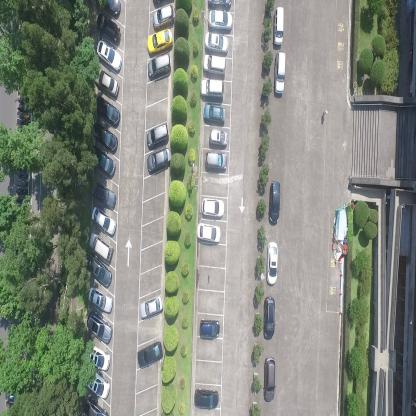car: (93, 94, 121, 128), (86, 252, 112, 288), (86, 310, 112, 345), (91, 121, 118, 154), (90, 204, 117, 236), (96, 39, 122, 72), (136, 337, 162, 369), (87, 232, 113, 264), (94, 66, 119, 99), (90, 179, 116, 208), (84, 369, 110, 398), (92, 145, 116, 176), (146, 145, 171, 174), (147, 52, 172, 81), (146, 120, 170, 150), (96, 15, 120, 45), (87, 286, 113, 313), (139, 292, 163, 321), (84, 344, 110, 370), (194, 385, 220, 410), (263, 355, 276, 403), (147, 28, 173, 52), (208, 8, 233, 32), (203, 148, 227, 173), (199, 77, 224, 100), (274, 50, 286, 97), (197, 223, 222, 245), (152, 4, 174, 29), (269, 178, 280, 226), (266, 241, 278, 285), (263, 296, 275, 340), (205, 32, 229, 54), (201, 196, 225, 218), (201, 105, 226, 124), (83, 397, 109, 415), (199, 317, 220, 339), (203, 54, 226, 74), (273, 6, 284, 46), (101, 0, 123, 19), (209, 128, 228, 147), (206, 0, 232, 11)
